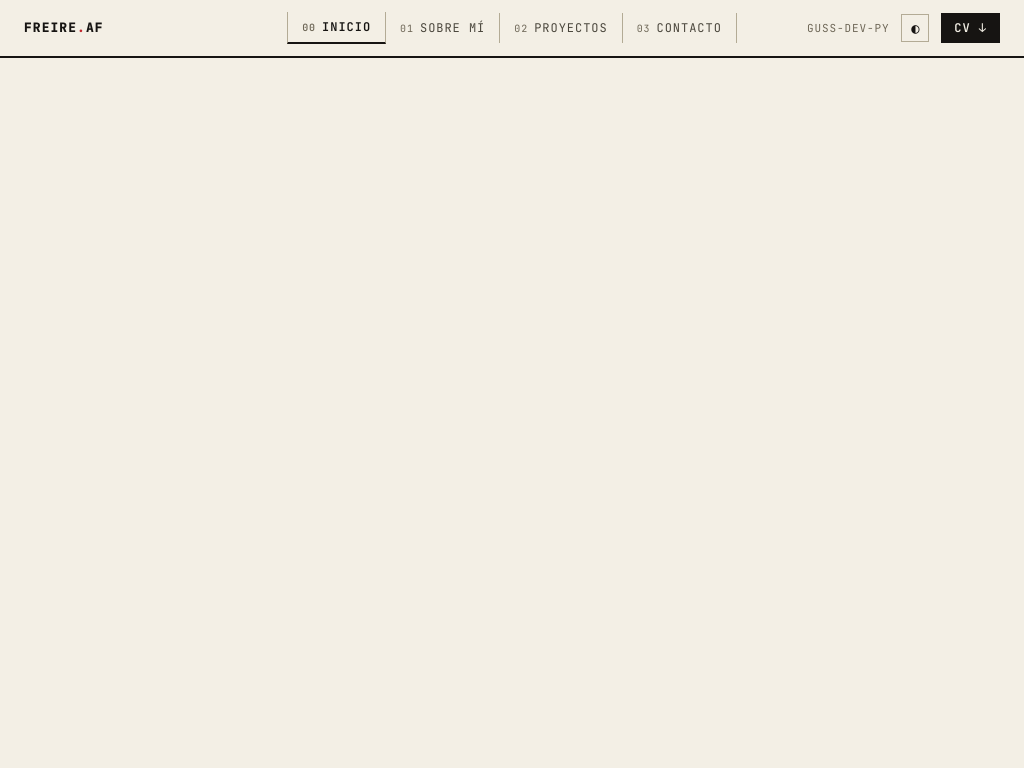
Test: ThemeToggle (NavigationBar) › al hacer clic aplica data-theme="dark" en <html> y persiste la preferencia
Click the button named "Activar modo oscuro".
click(915, 28)  # box [901,14,929,42]
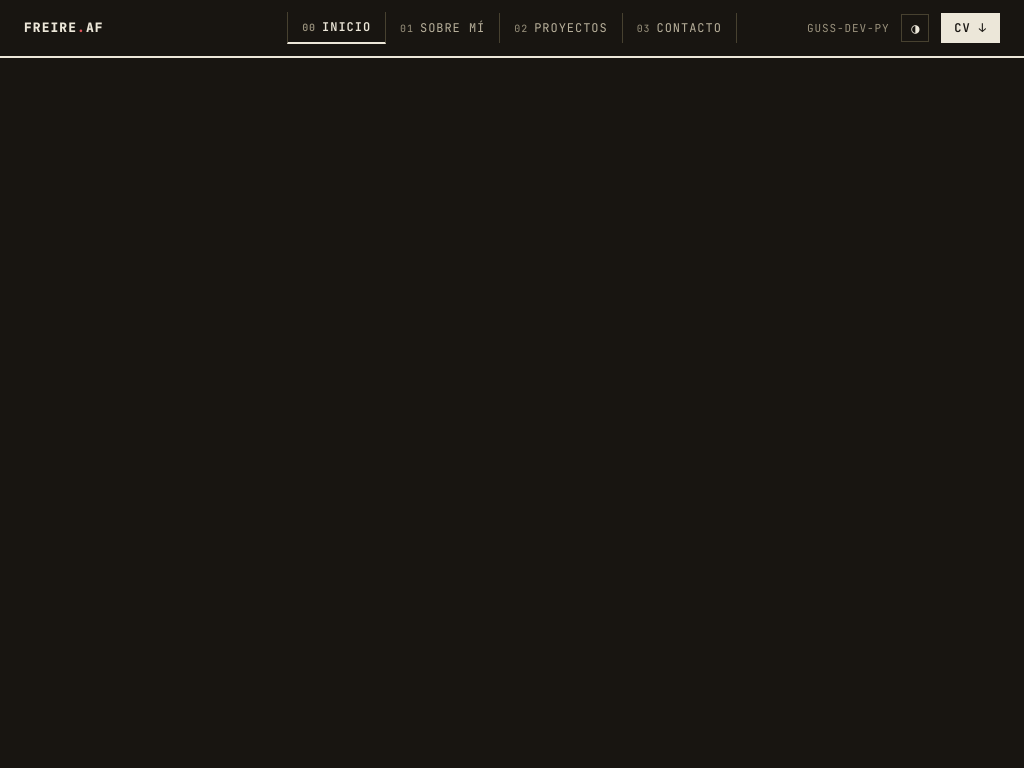
Expected: the button named "Activar modo claro" is shown, [901,14,929,42]
